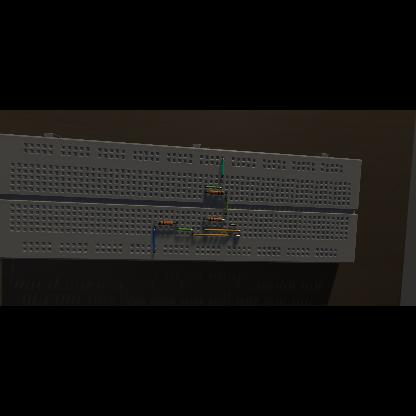breadboard: (0, 133, 362, 263)
resistor: (210, 191, 224, 196), (158, 221, 174, 225), (208, 218, 222, 222)
wire: (204, 228, 240, 232), (192, 233, 230, 236), (152, 227, 156, 253), (224, 198, 228, 216), (221, 158, 224, 178), (176, 228, 193, 231), (204, 187, 221, 189), (229, 224, 235, 226), (205, 192, 209, 194), (203, 218, 207, 220), (222, 219, 226, 221), (154, 222, 158, 224), (174, 222, 178, 224), (234, 235, 240, 236), (224, 194, 228, 194)
